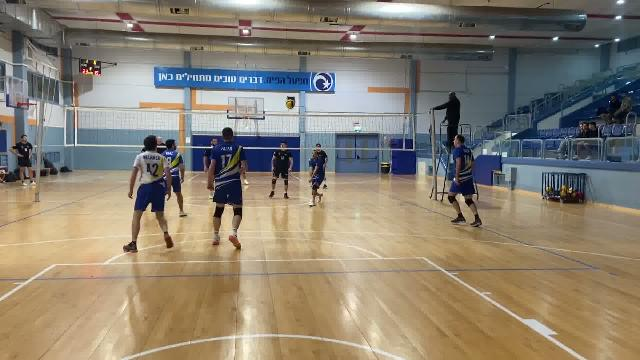ball: (284, 97, 299, 115)
